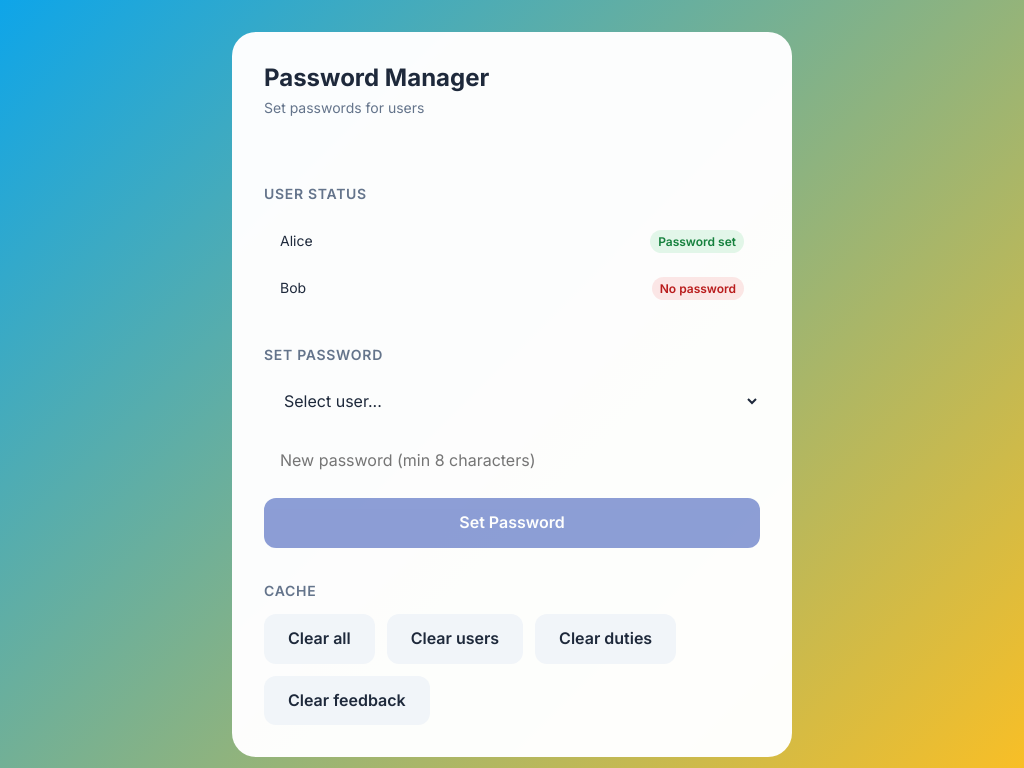
AdminPasswords — set password form › shows success and refreshes the list on a successful password set
The image size is (1024, 768).
Check: the text "Password set" is shown, box [650,230,744,253]
Select "Bob" in the dropdown at point(512, 401), box [264,378,760,424]
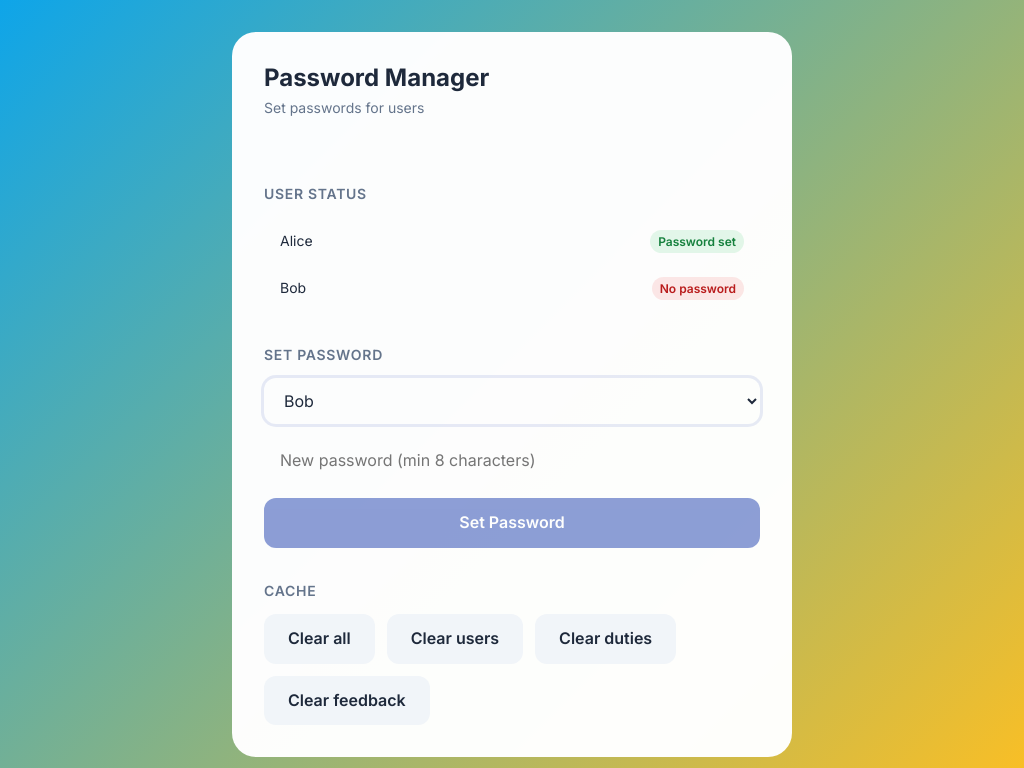
Type "validpassword" into the password field with placeholder "New password (min 8 characters)" at point(512, 461), box [264,436,760,486]
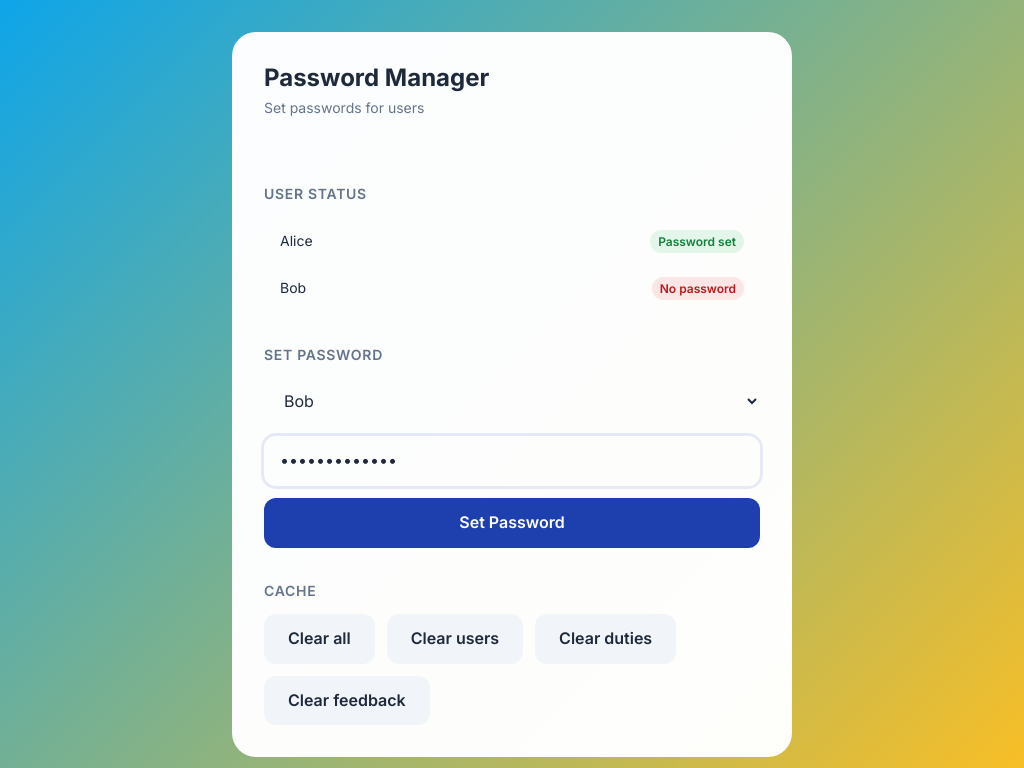
Click the button "Set Password" at point(512, 523), box [264,498,760,548]
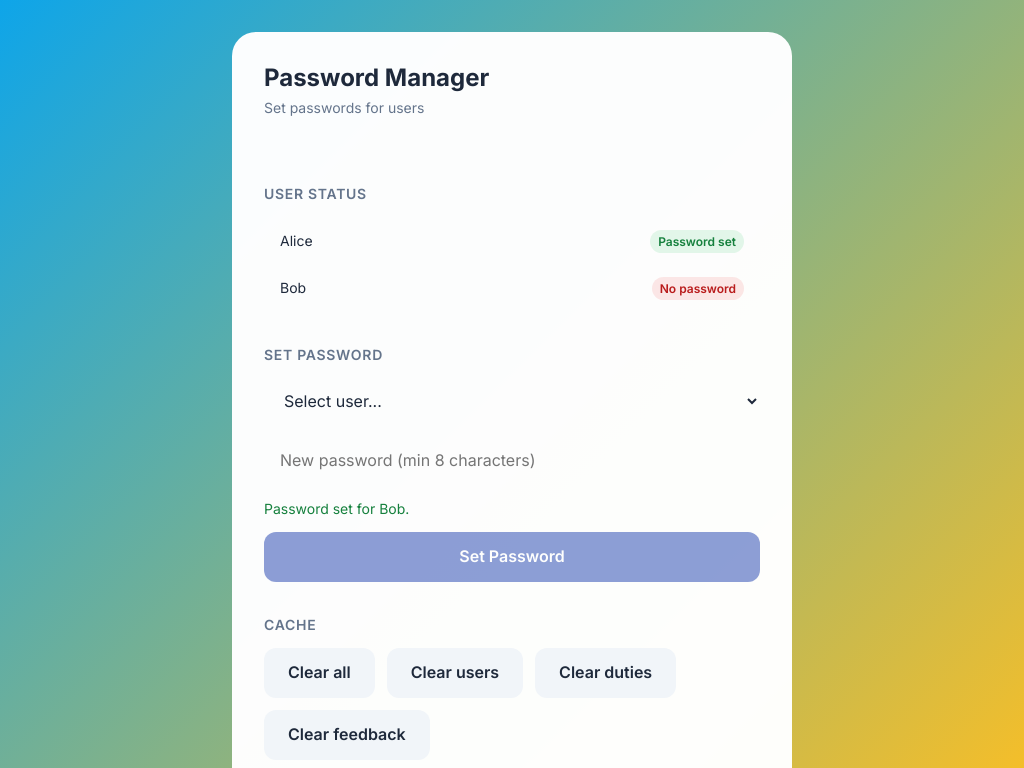
Check: the text "Password set for Bob." is shown, box [264,500,409,517]
